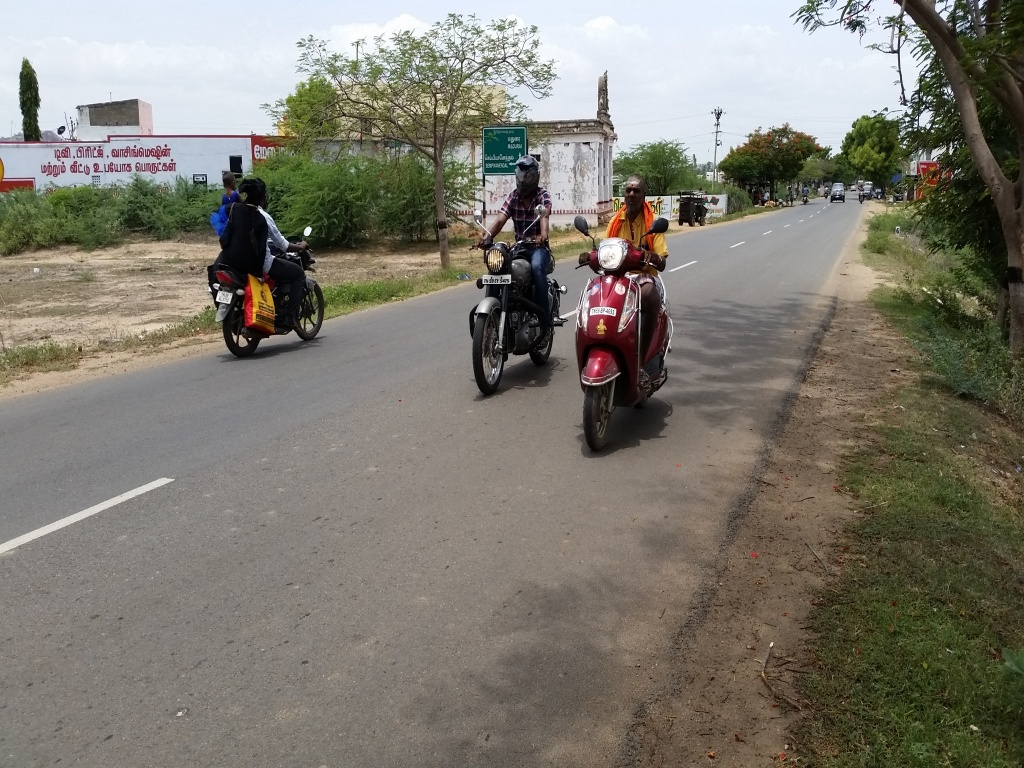biker: (569, 153, 702, 463), (458, 127, 571, 409), (195, 141, 334, 370)
helmet: (501, 149, 556, 193)
nohelmet: (609, 166, 665, 225), (236, 175, 272, 212), (216, 163, 246, 195)
